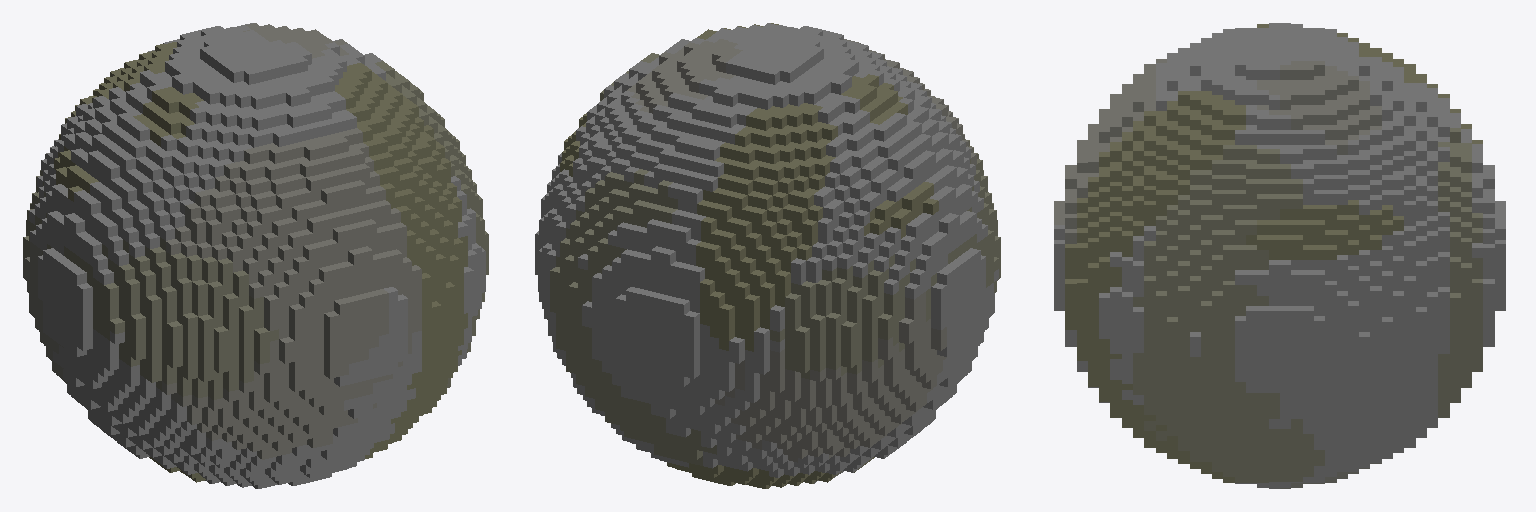
3 renders of one model, left to right at view 1: azimuth 30°, elevation 25°; view 2: azimuth 150°, elevation 25°; view 3: azimuth 270°, elevation 25°, orthographic.
Parts seen in each view (by area): view 1: object 1; view 2: object 1; view 3: object 1.
Boxes of the visible parts, x1,y1,x2,y2 form: object 1: [23, 23, 488, 488]; object 1: [535, 23, 1000, 488]; object 1: [1054, 23, 1505, 488].
Size of the model in its own units: 4 by 4 by 4.
1 materials, 1 textured.